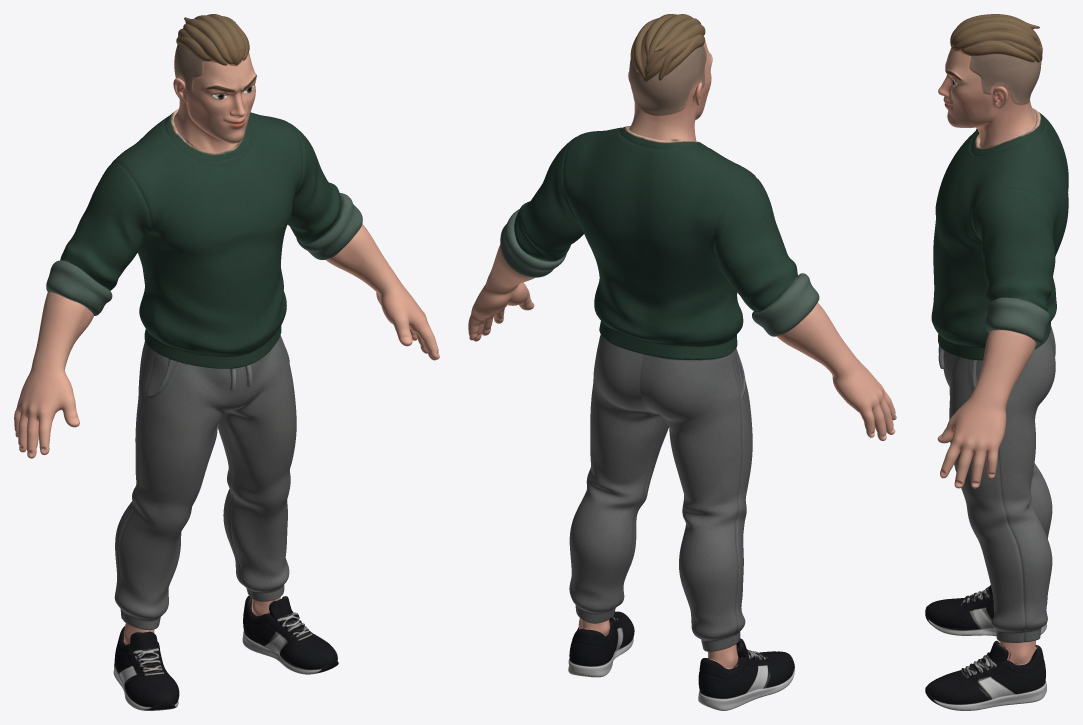
Rendered from amigo1.glb.
The picture shows the model from 3 angles, left to right: view 1: azimuth 30°, elevation 25°; view 2: azimuth 150°, elevation 25°; view 3: azimuth 270°, elevation 25°; orthographic projection.
Bounding box in the file's own units: 1.25 × 1.9 × 0.3832.
1 material, 1 textured.
